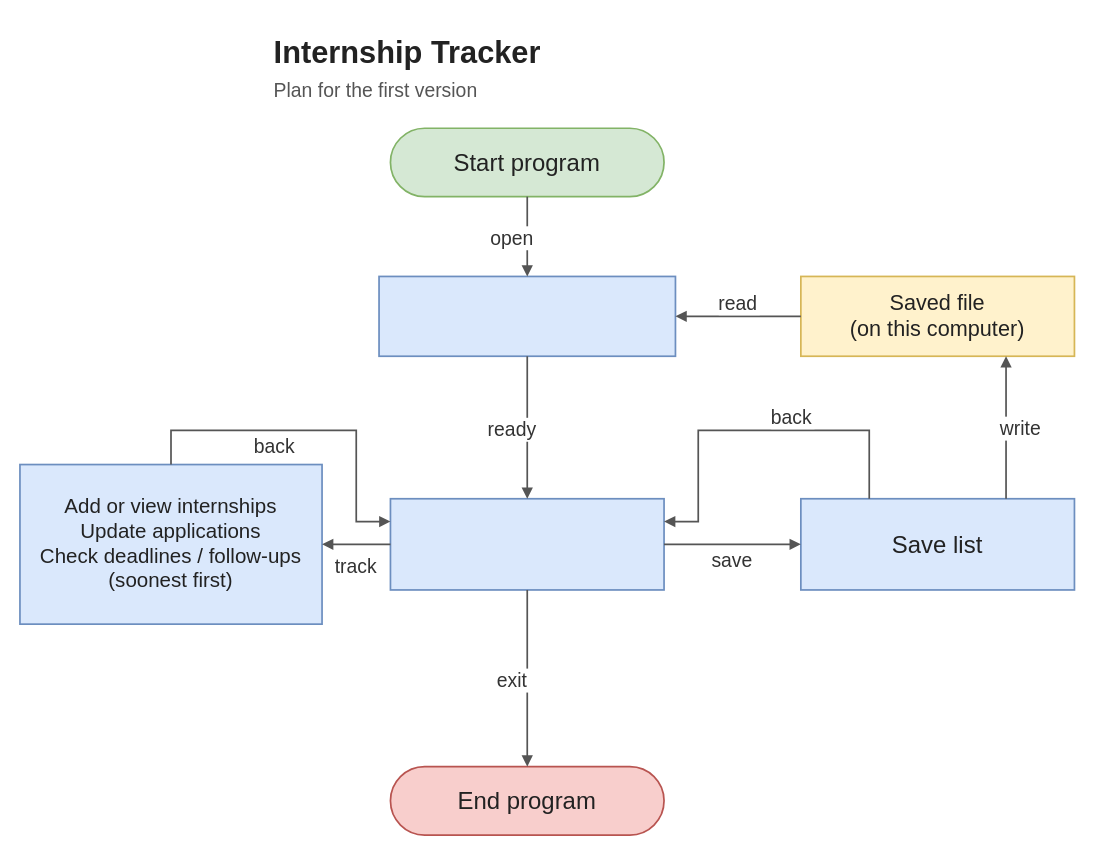
Some shapes in this 1096 by 855 pixel diagram are drawn without their labels. Each missing label, with the centre of its shape:
Load saved list: point 527,316
Main menu Choose what to do: point 526,543
